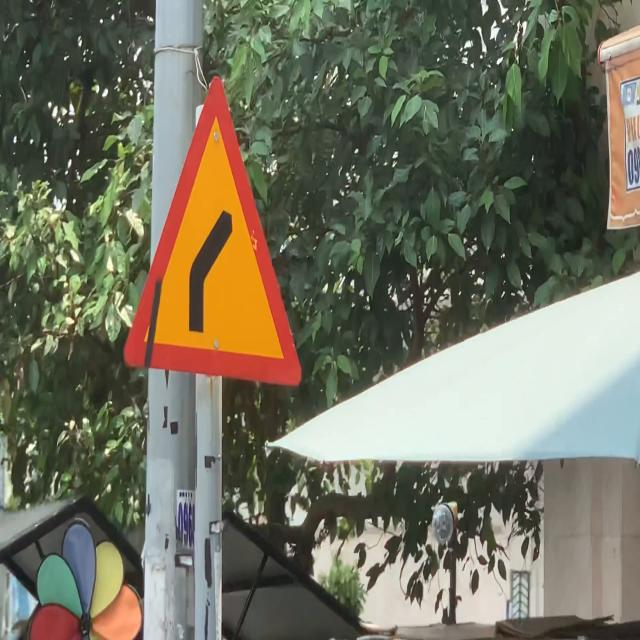Nguy hiem: (113, 68, 307, 406)
